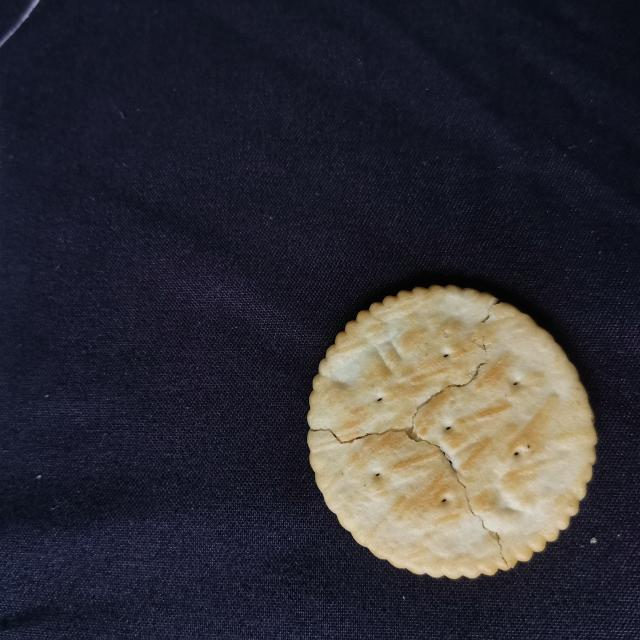Fracture: (307, 294, 515, 573)
